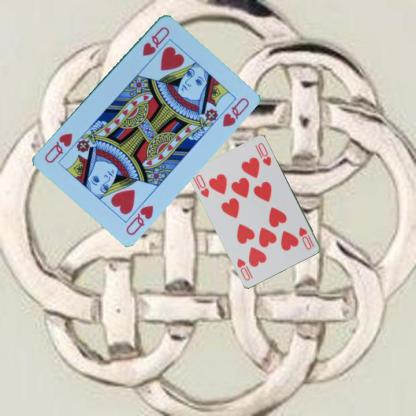10h: (297, 225, 316, 251), (193, 172, 211, 199)
Qh: (123, 202, 155, 236), (139, 24, 171, 57)
